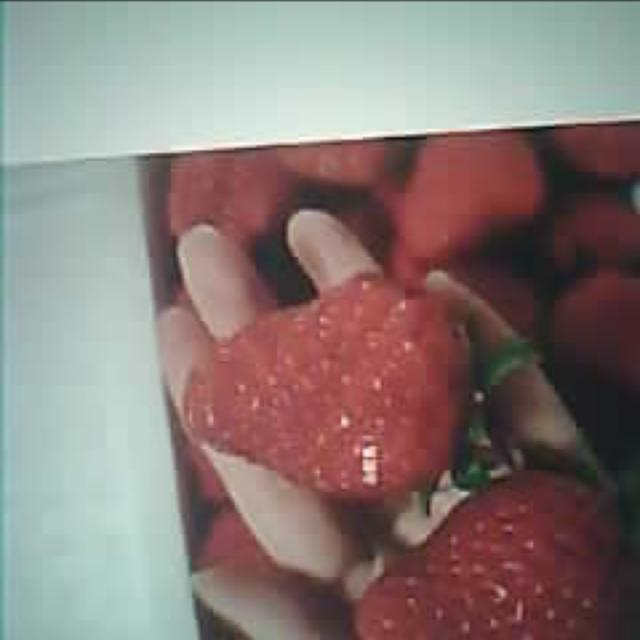strawberry: (183, 275, 488, 497), (351, 467, 640, 640)
